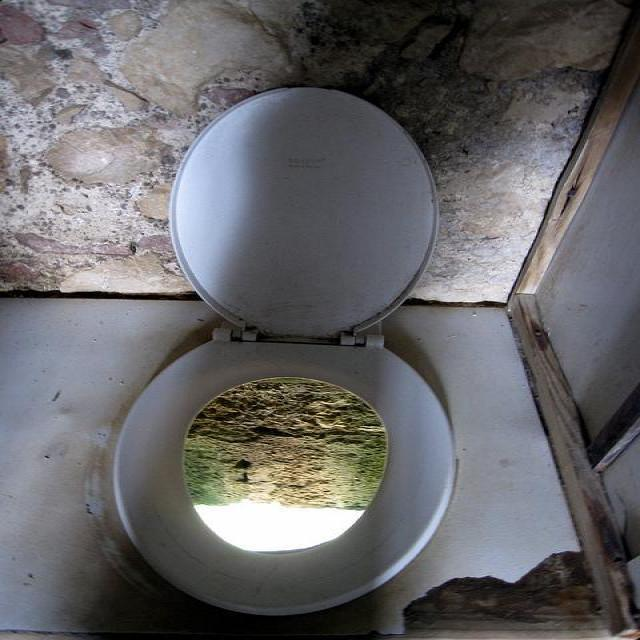toilet: (108, 90, 461, 626)
